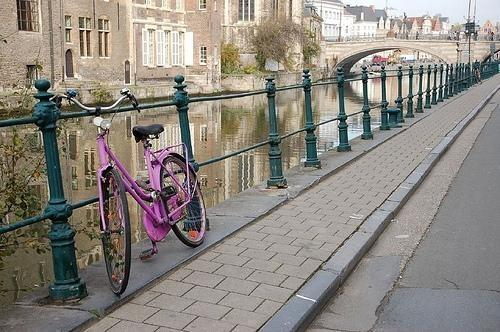bicycle: (46, 87, 208, 295)
